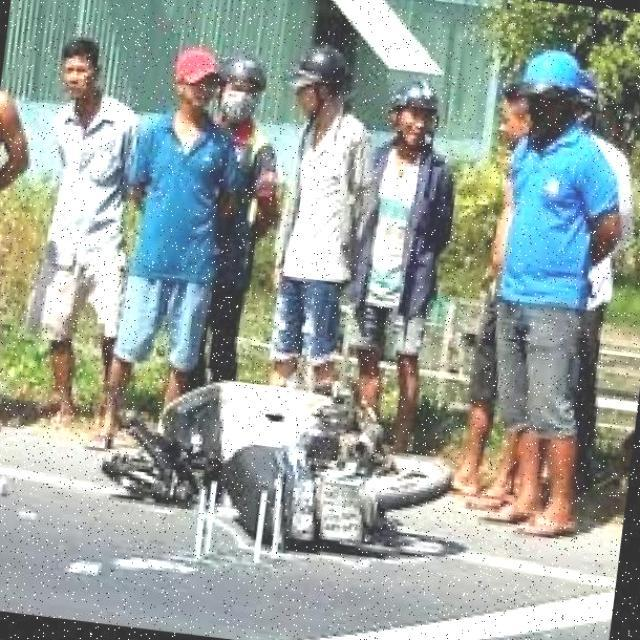accident: (84, 334, 468, 591)
